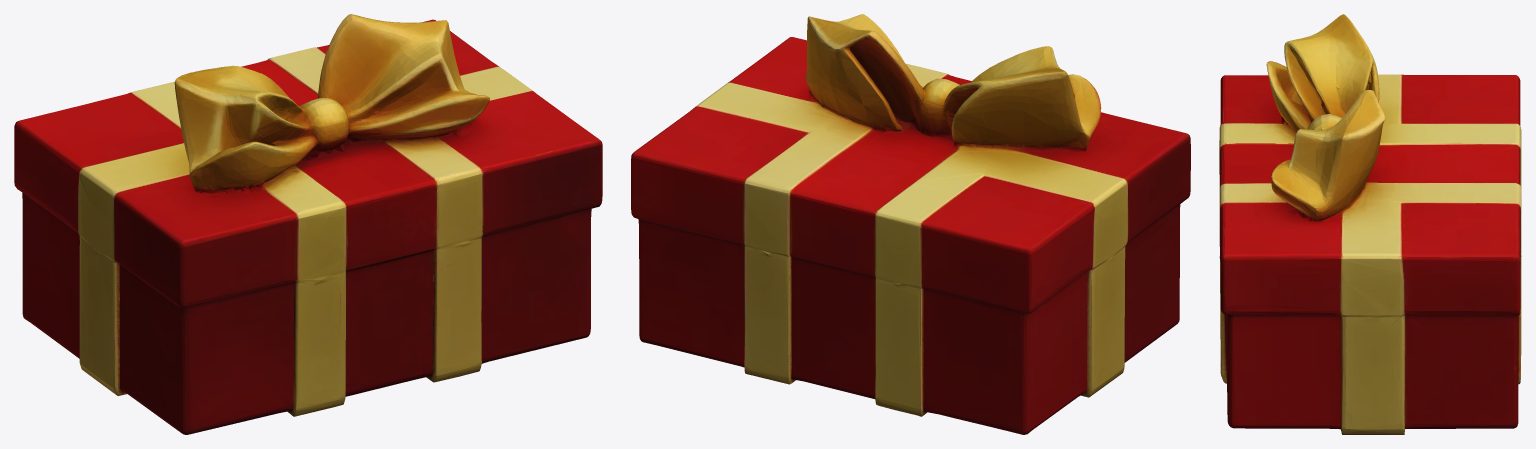
Rendered from giftbox_red_goldbow_3.glb.
3 renders of one model, left to right at view 1: azimuth 30°, elevation 25°; view 2: azimuth 150°, elevation 25°; view 3: azimuth 270°, elevation 25°, orthographic. The views are drawn at different scales.
Visible parts, largest first — view 1: geometry_0; view 2: geometry_0; view 3: geometry_0.
Part boxes in pixels (box(x1,y1,x2,y2)): geometry_0: box(14, 14, 602, 434); geometry_0: box(631, 14, 1190, 434); geometry_0: box(1219, 14, 1521, 434).
Size of the model in its own units: 0.9981 by 0.6969 by 0.6958.
Materials: 1 (1 with a texture image).
